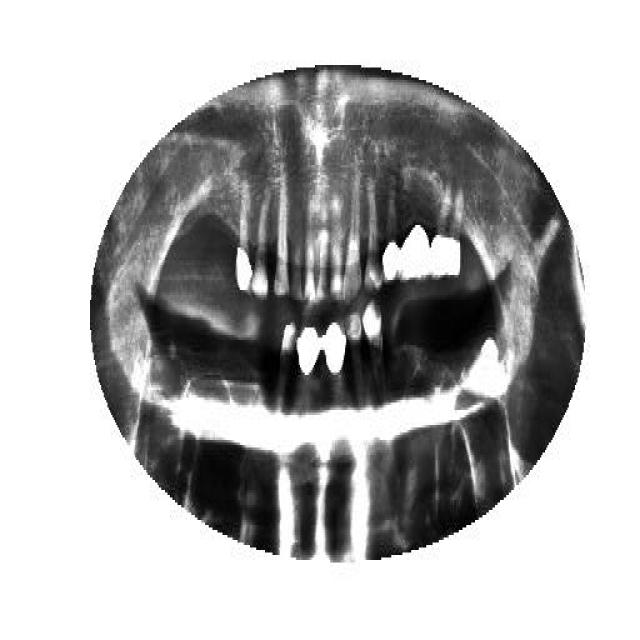Fillings: (430, 178, 466, 278), (382, 175, 400, 290), (236, 182, 252, 300), (402, 225, 430, 283), (323, 315, 348, 375), (298, 318, 322, 380)
